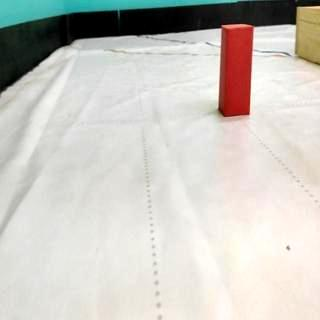redbox: (219, 22, 254, 116)
